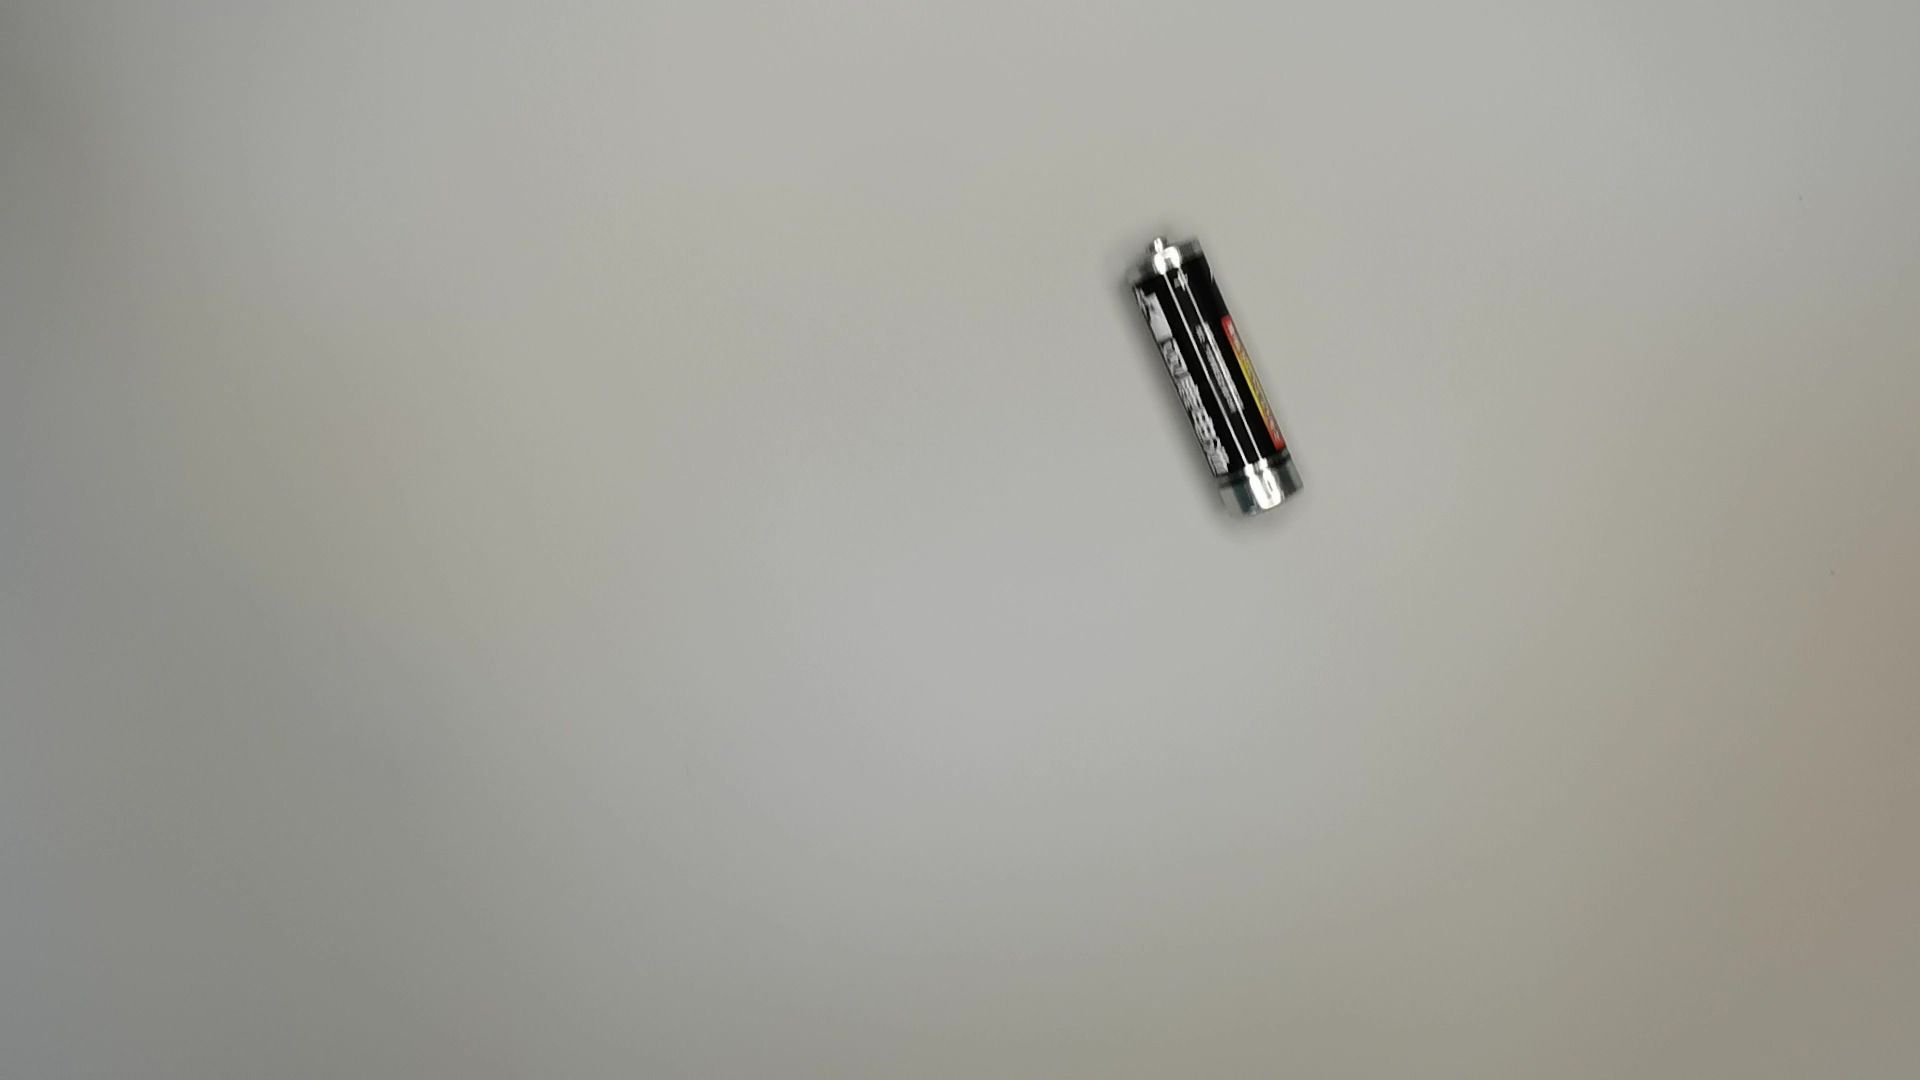battery: (1114, 229, 1309, 524)
